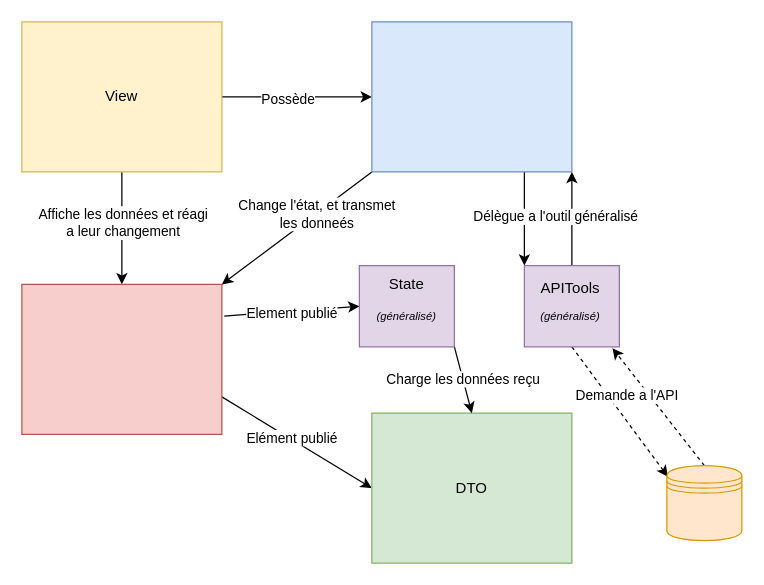
The diagram is 764 pixels wide and 585 high, and some of its shapes have lost their labels. The centre of each missing label's shape, as x and y in pixels:
"Intent" goes at point 471,96.
"ModelView" goes at point 121,358.
